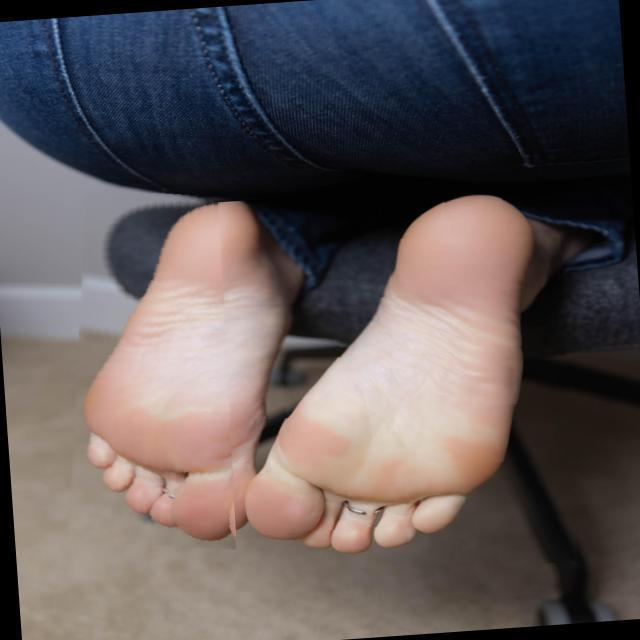Barefoots: (274, 167, 529, 572), (59, 173, 308, 562)
